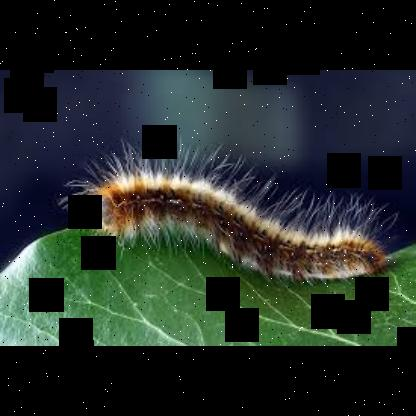oruga: (58, 129, 395, 287)
